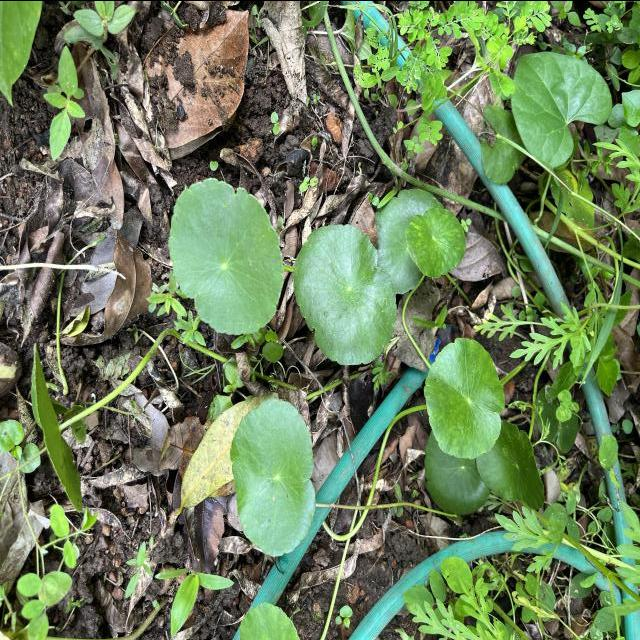Bacopa monnieri: (168, 176, 286, 336), (292, 222, 399, 365), (230, 396, 318, 557), (422, 334, 509, 461), (404, 204, 469, 280)
